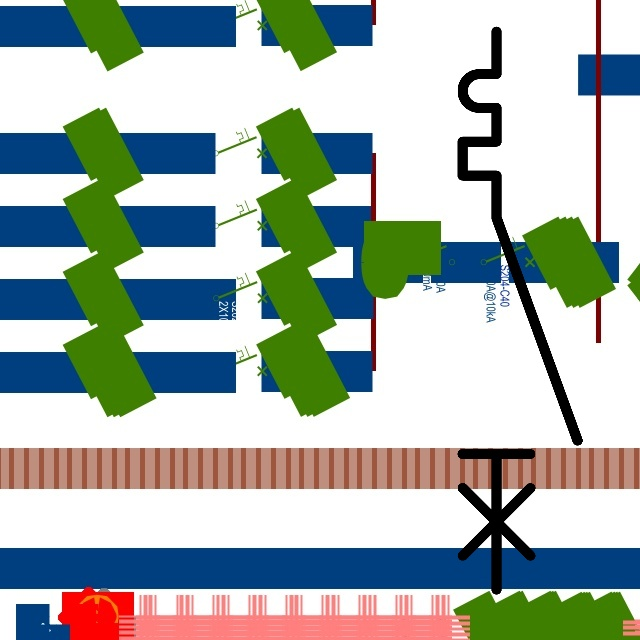interruptor_termomagnetico: (448, 17, 591, 604)
